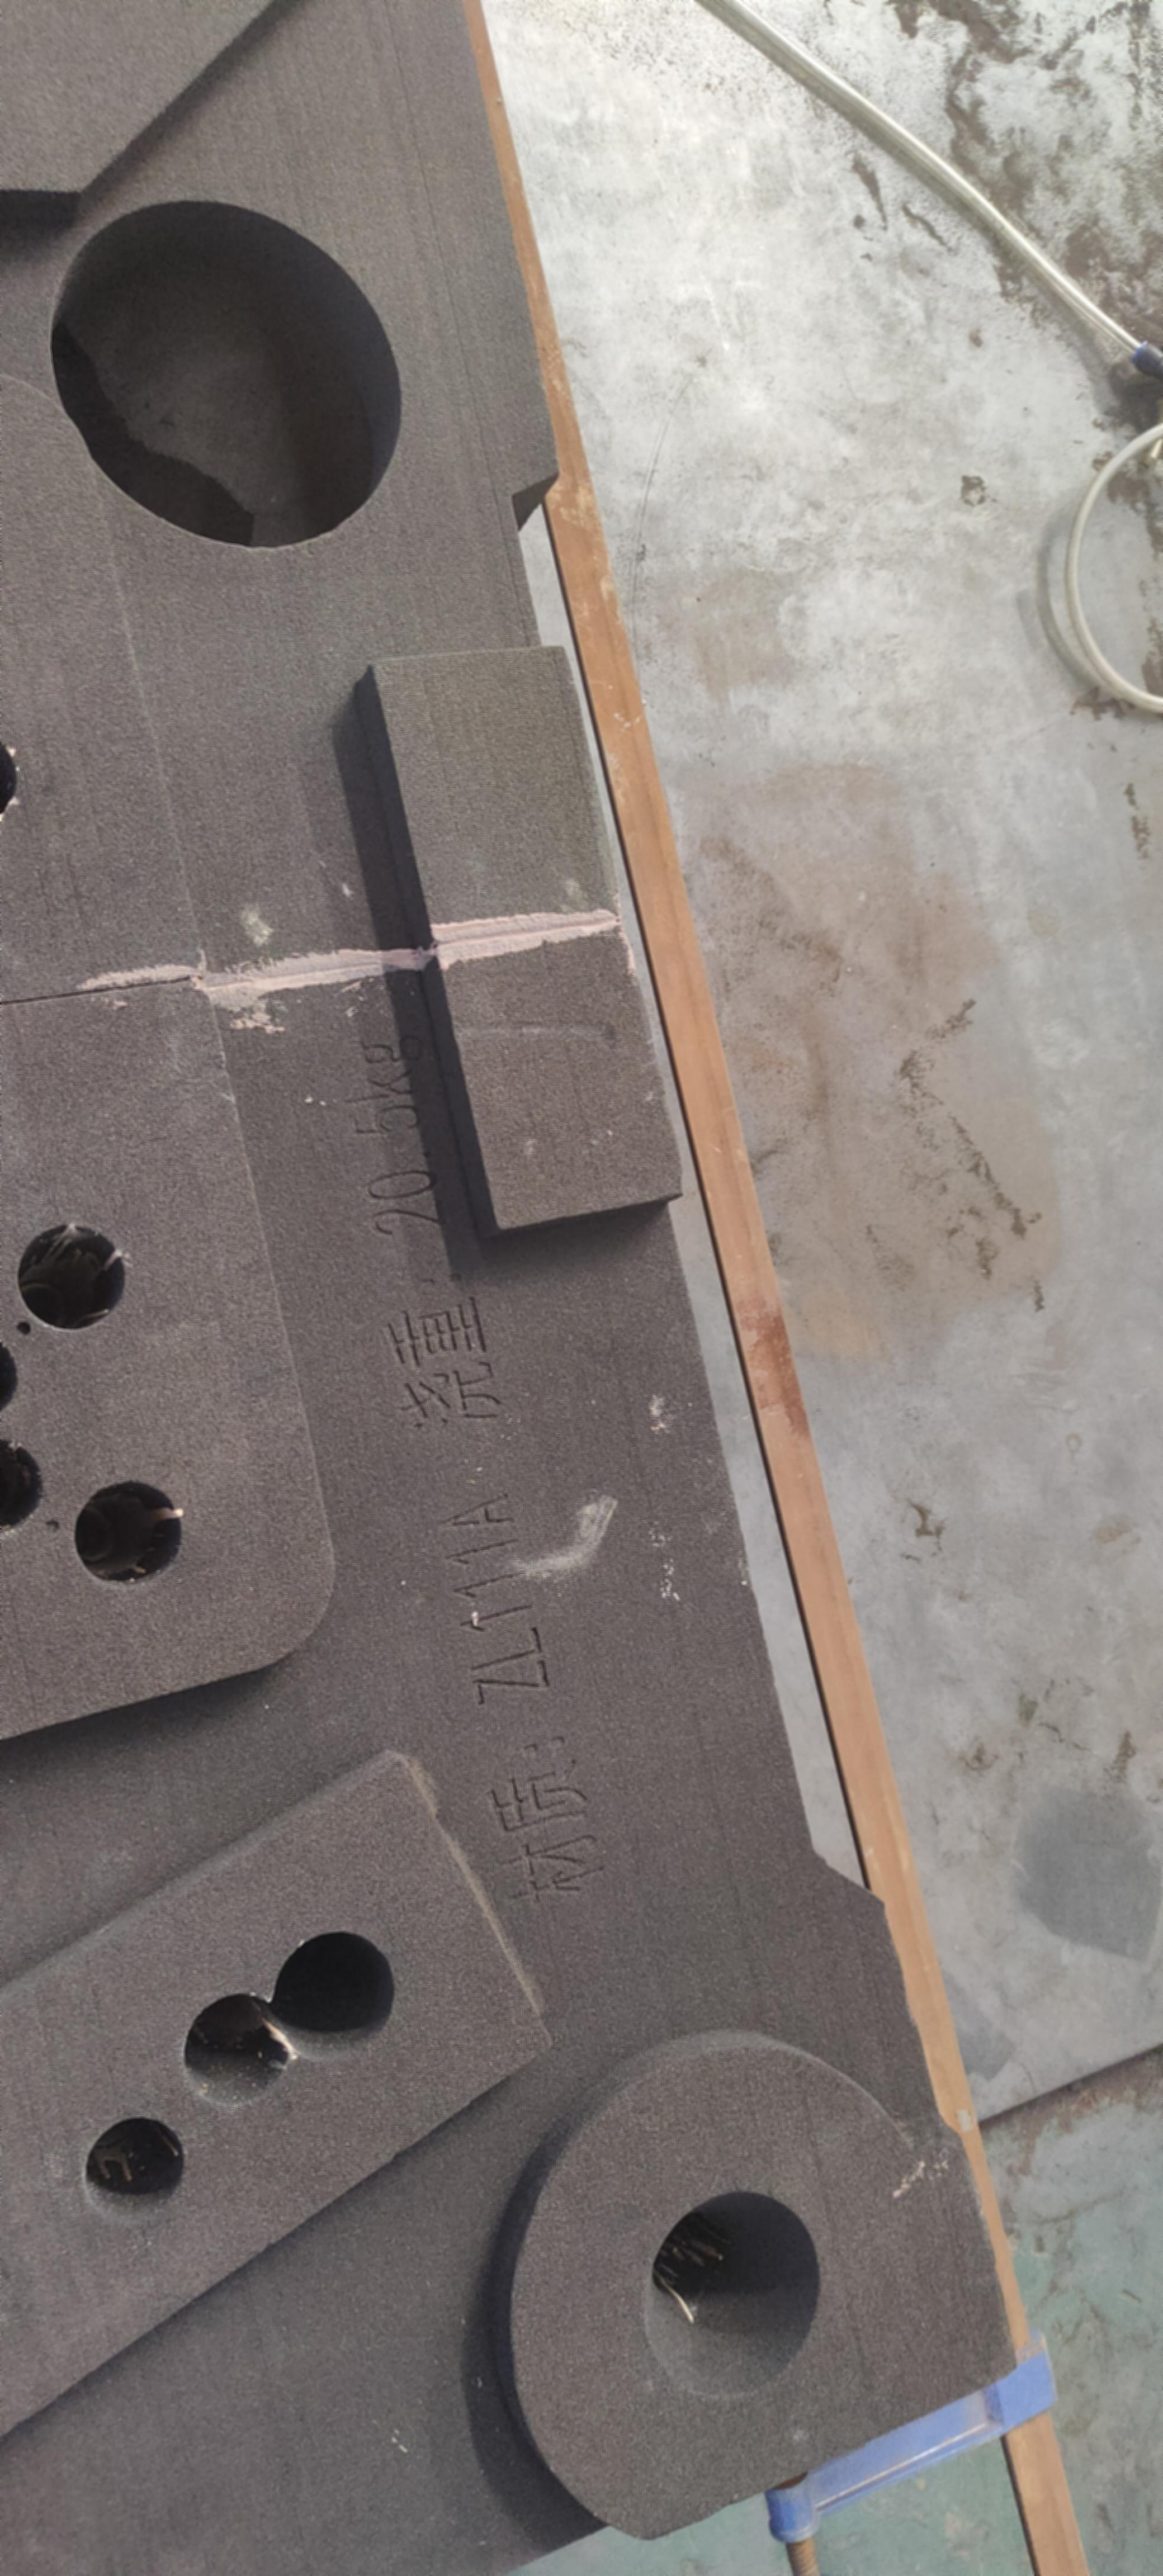pouring hole: (639, 2188, 820, 2400)
